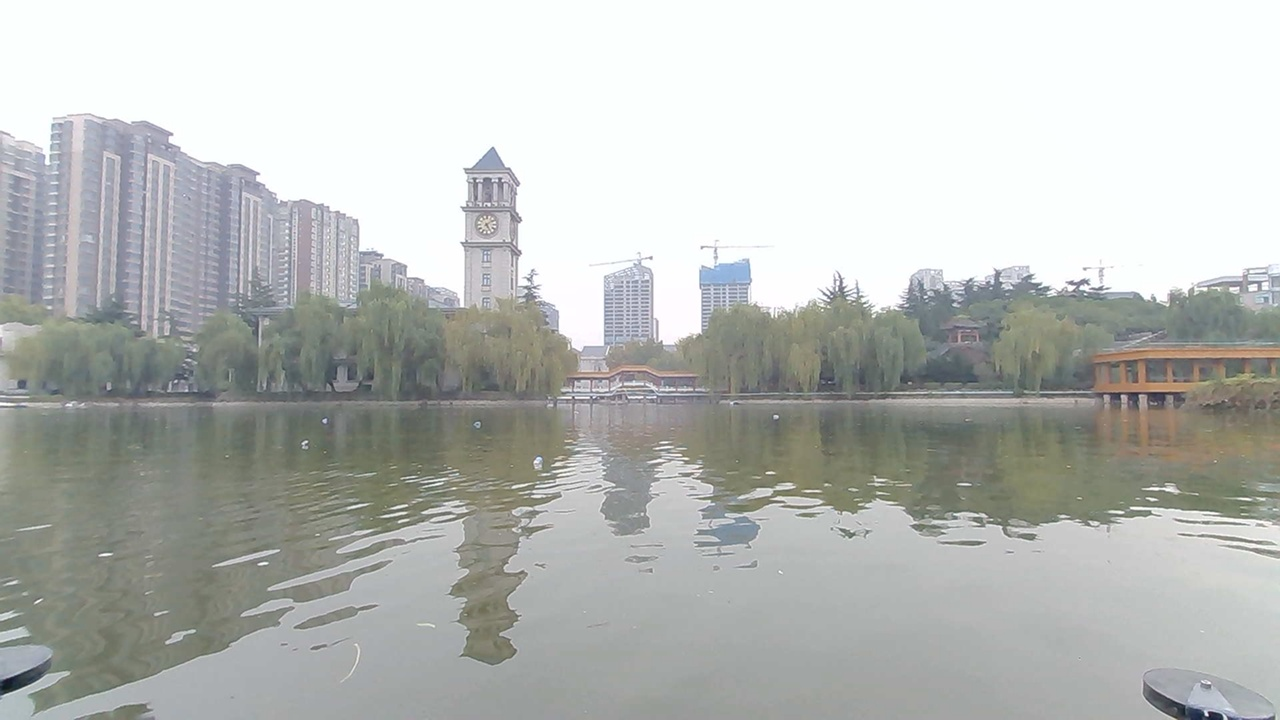bottle: (504, 446, 564, 479), (293, 430, 334, 453), (756, 401, 795, 424), (459, 410, 496, 434), (310, 406, 346, 430)
